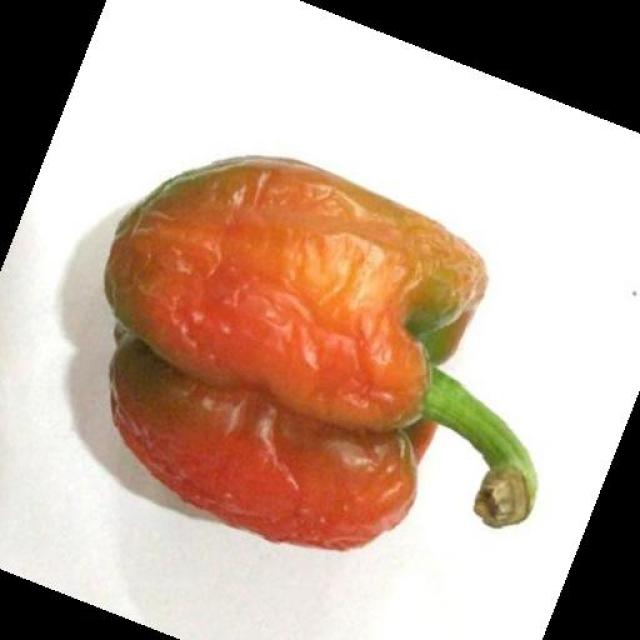Stale_Capsicum: (99, 117, 556, 568)
